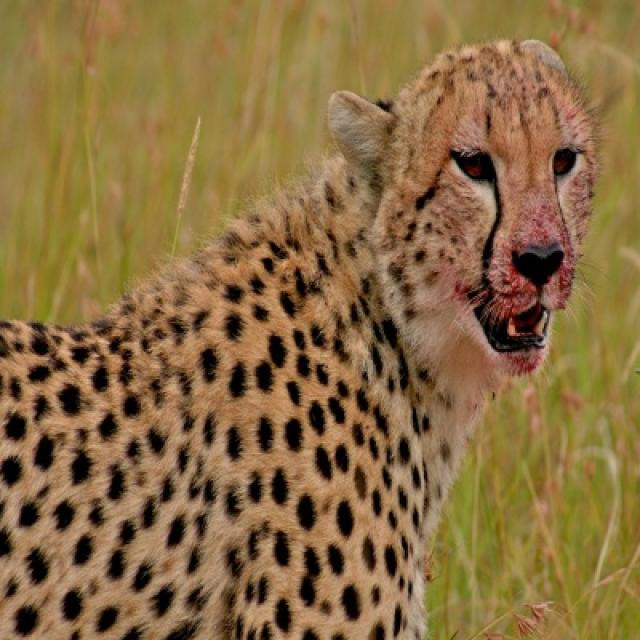Cheetah: (0, 26, 601, 638)
